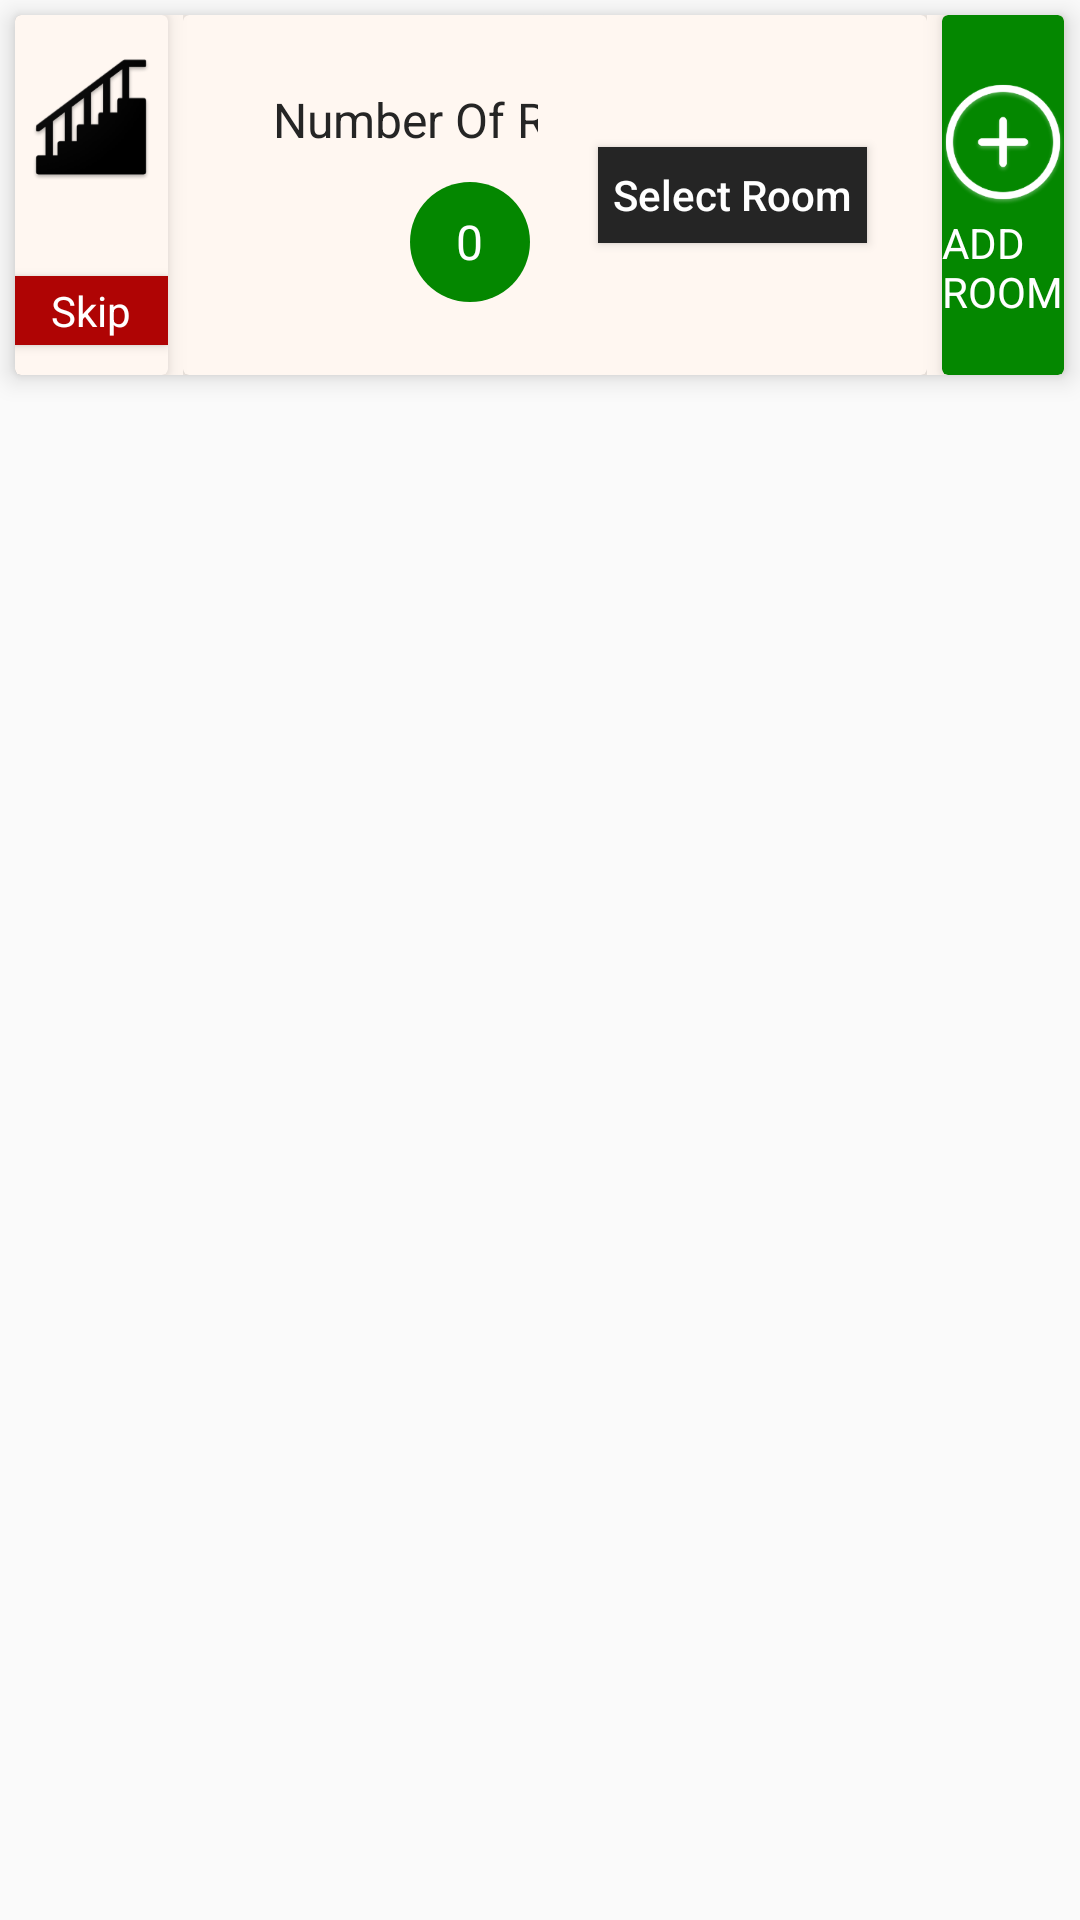

Icons on this 1080 × 1920 Android screen, each with the point to tap as (x,y):
floor: (91,118)
